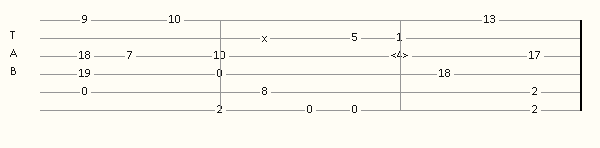0: (82, 86, 92, 98), (217, 68, 227, 80), (307, 104, 317, 116), (352, 104, 362, 116)
1: (397, 32, 407, 44)
10: (169, 14, 185, 26), (214, 50, 230, 62)
13: (484, 14, 500, 26)
17: (529, 50, 545, 62)
18: (79, 50, 95, 62), (439, 68, 455, 80)
19: (79, 68, 95, 80)
2: (217, 104, 227, 116), (532, 104, 542, 116), (532, 86, 542, 98)
5: (352, 32, 362, 44)
7: (127, 50, 137, 62)
8: (262, 86, 272, 98)
9: (82, 14, 92, 26)
harmonic: (391, 50, 413, 62)
x: (262, 33, 271, 43)
